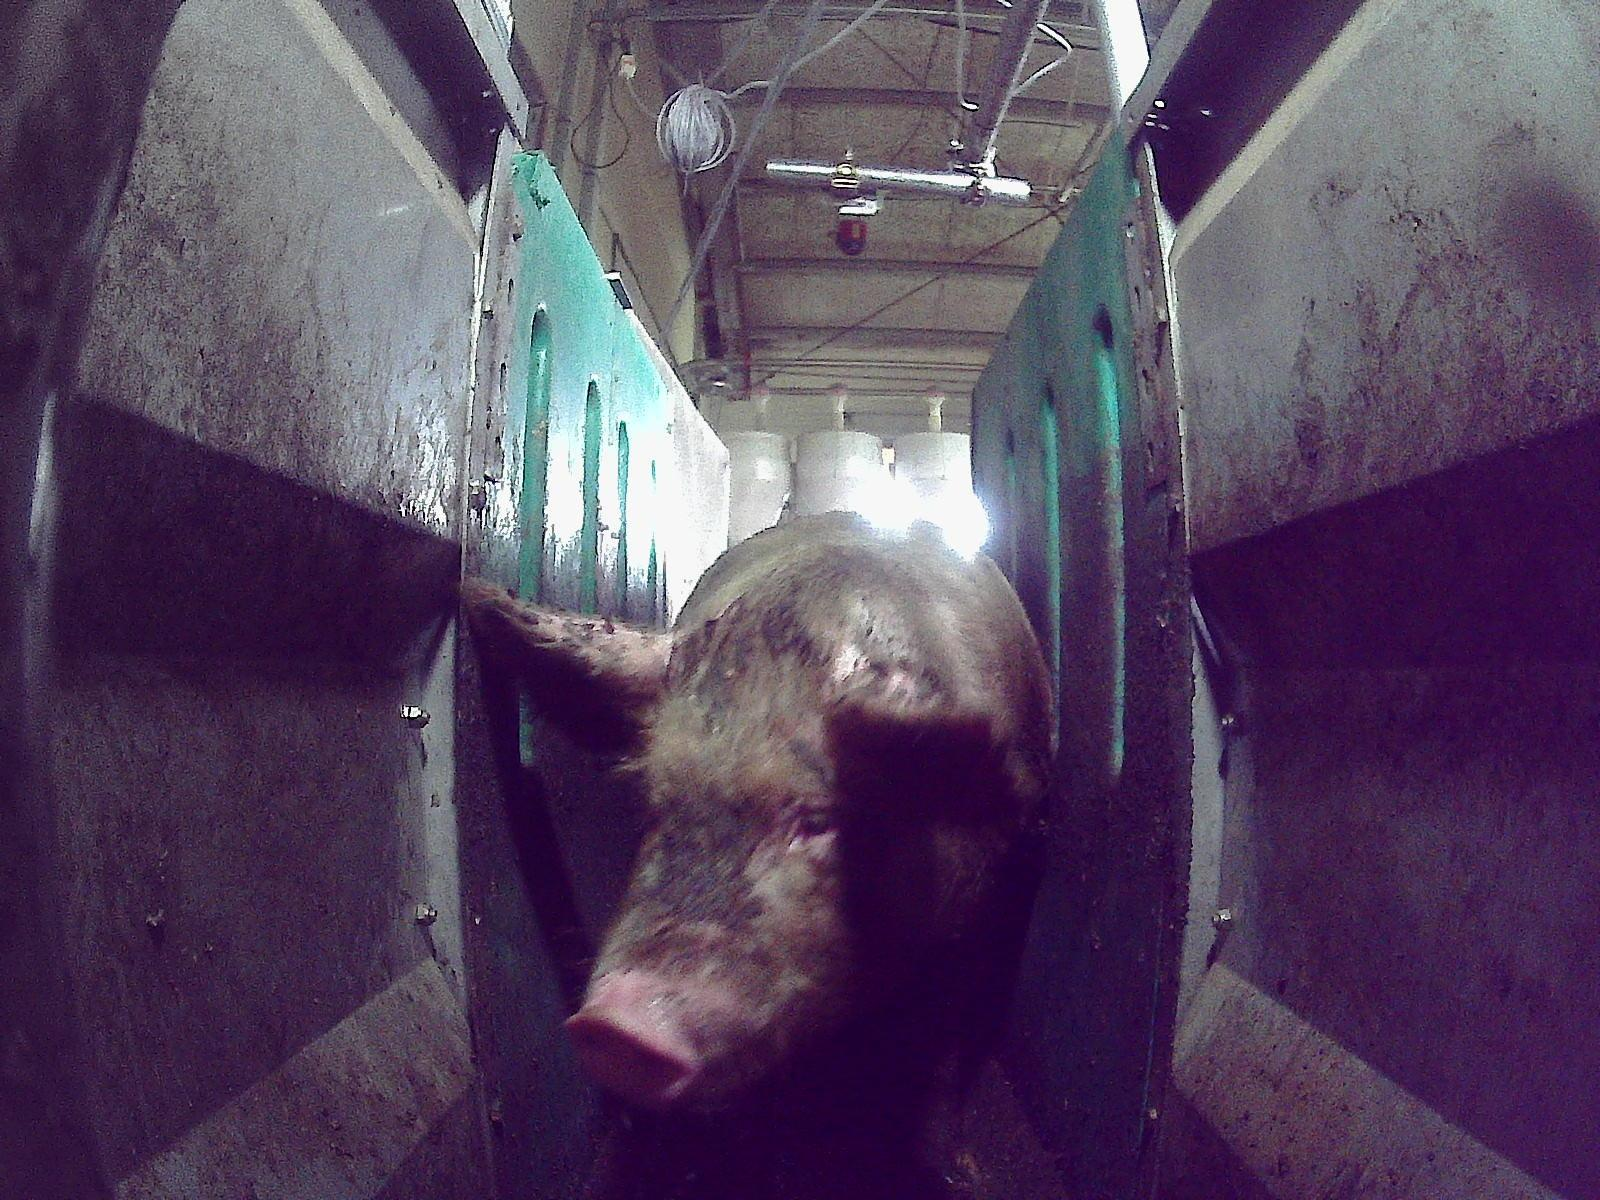Face: (562, 595, 964, 1112)
